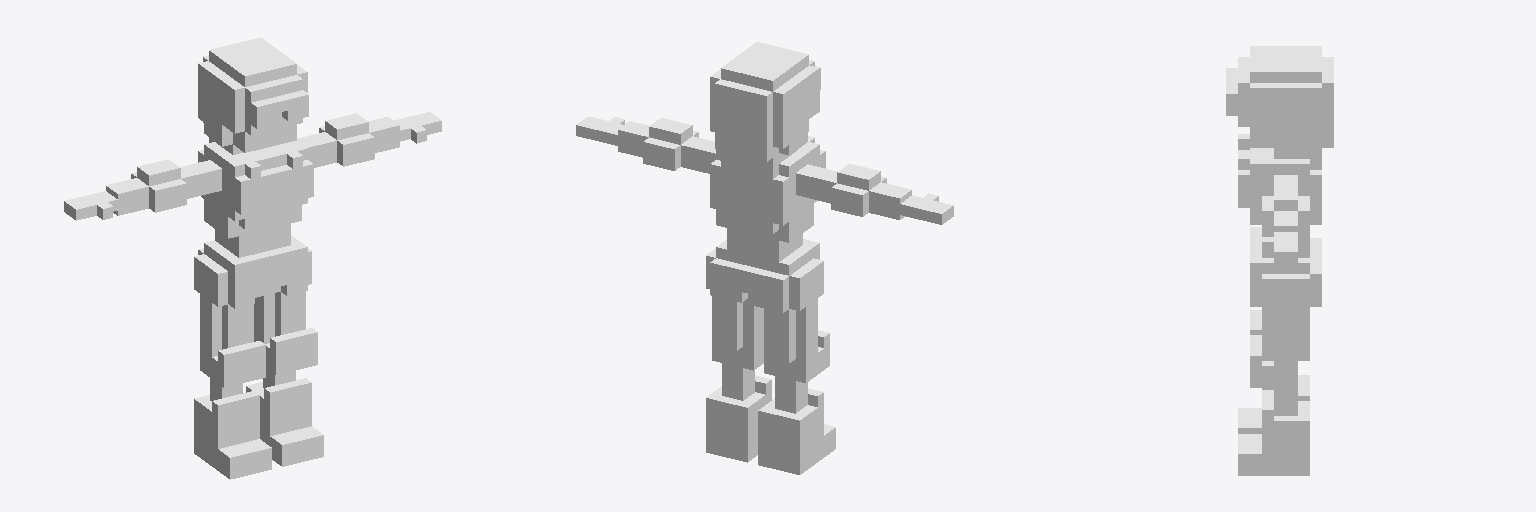
Rendered from Character-9.obj.
3 views of the same model, side by side, from view 1: azimuth 30°, elevation 25°; view 2: azimuth 150°, elevation 25°; view 3: azimuth 270°, elevation 25° (orthographic).
Visible parts, largest first — view 1: object 1; view 2: object 1; view 3: object 1.
Part boxes in pixels (left/top/right/bottom): object 1: left=64, top=37, right=441, bottom=479; object 1: left=576, top=42, right=953, bottom=474; object 1: left=1226, top=46, right=1333, bottom=475.
Size of the model in its own units: 7 by 7.2 by 1.8.